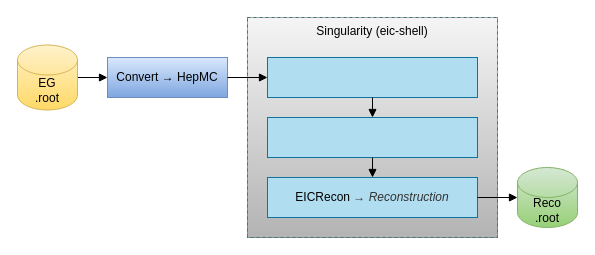
This 595x255 diagram has some shape labels left out. Here are the shapes that lost their labels. From the top down, the centre of each, then its label:
At point 372,77: "Afterburner → Beam effects".
At point 372,137: "NPSim → G4 Full simulation".
